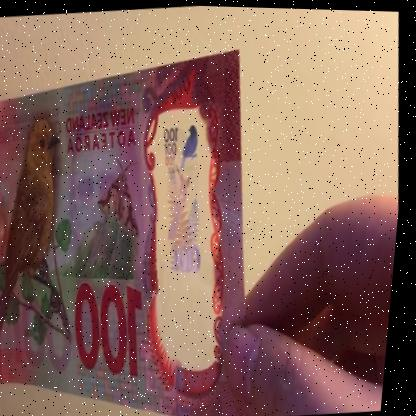100B: (148, 115, 225, 330)
